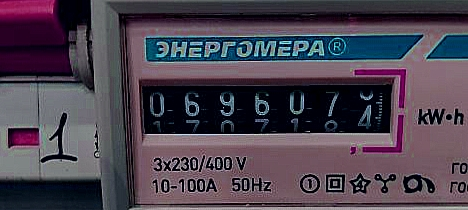0: (146, 88, 166, 118), (287, 85, 306, 115)
4: (354, 101, 373, 130)
6: (180, 87, 202, 117), (252, 87, 271, 115)
7: (322, 86, 339, 116)
9: (217, 88, 235, 117)
screen: (122, 61, 407, 152)
